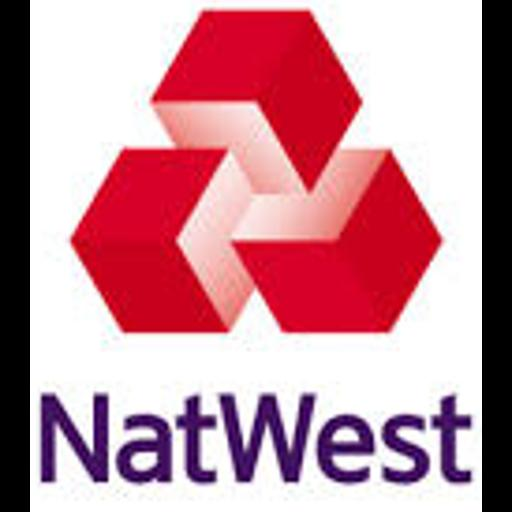NatWest Personal Banking: (30, 0, 482, 512)
